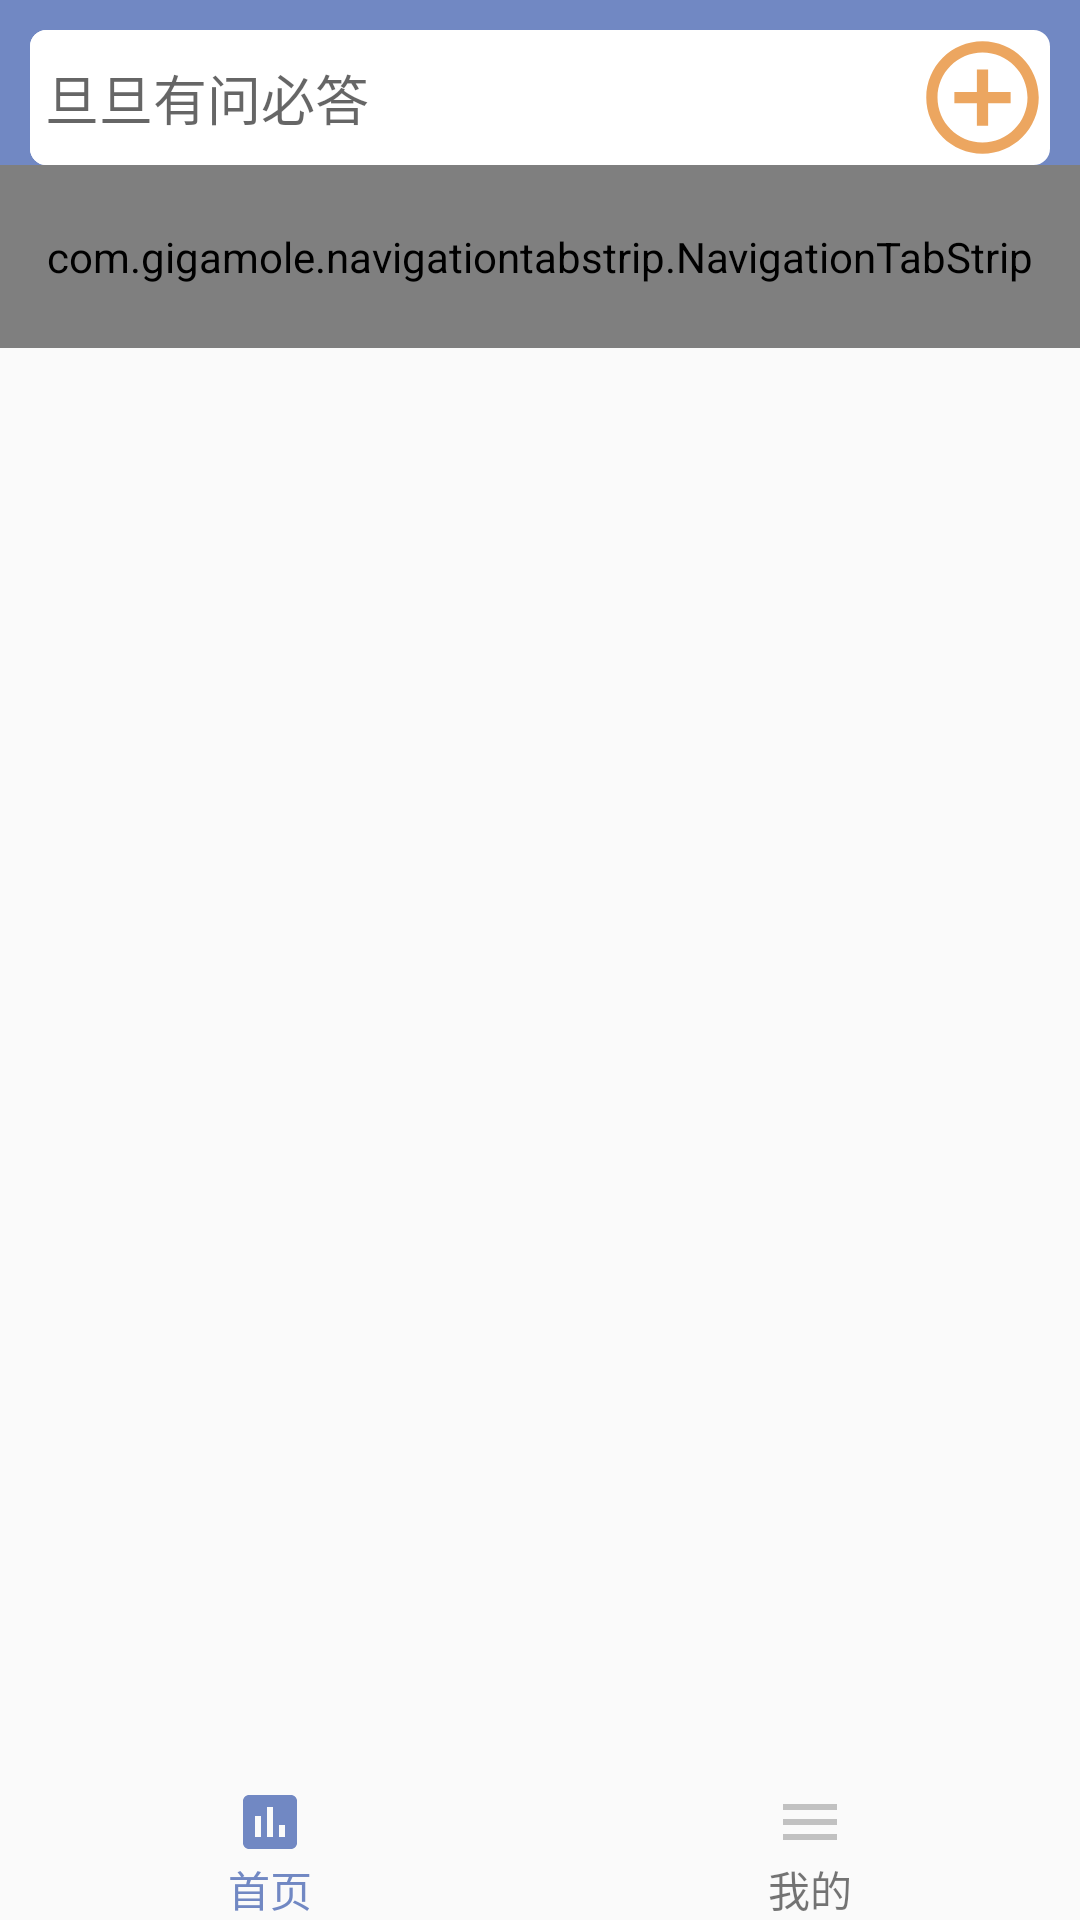

Screen size 1080 x 1920. Icon name, then its center in pixels as (x,y):
ques add: (982,97)
